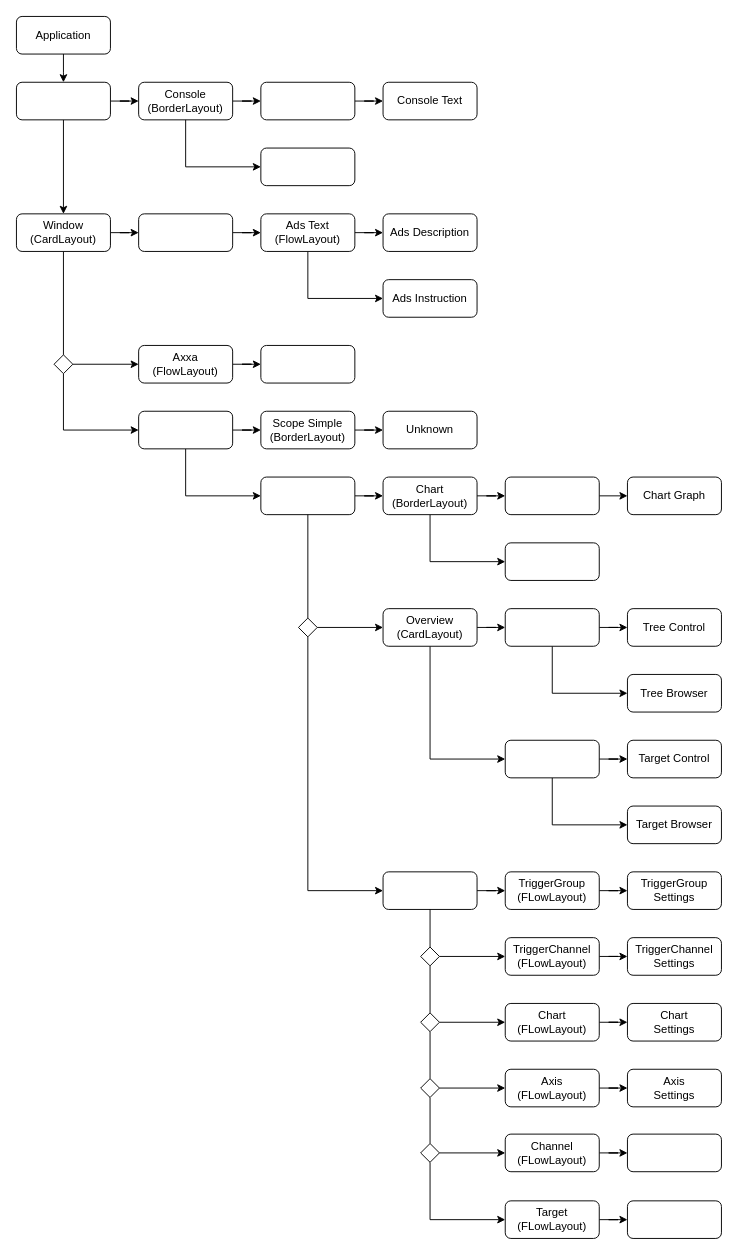
Image size: 738x1255. Some labels were removed from this diagram. Each missing label, with the centre of its shape:
"Ads (ScrollLayout)" goes at [185,232].
"Axxa Modules" goes at [307,364].
"Channel Settings" goes at [674,1152].
"Chart (ScrollLayout)" goes at [551,495].
"Chart Control" goes at [551,561].
"Console Input" goes at [307,166].
"Console Output (BorderLayout)" goes at [307,100].
"Main (SplitLayout)" goes at [63,100].
"Scope (CardLayout)" goes at [185,429].
"Scope Complex (SplitPanel)" goes at [307,495].
"Settings (CardLayout)" goes at [429,890].
"Target (BorderLayout)" goes at [551,758].
"Target Settings" goes at [674,1219].
"Tree (BorderLayout)" goes at [551,627].
